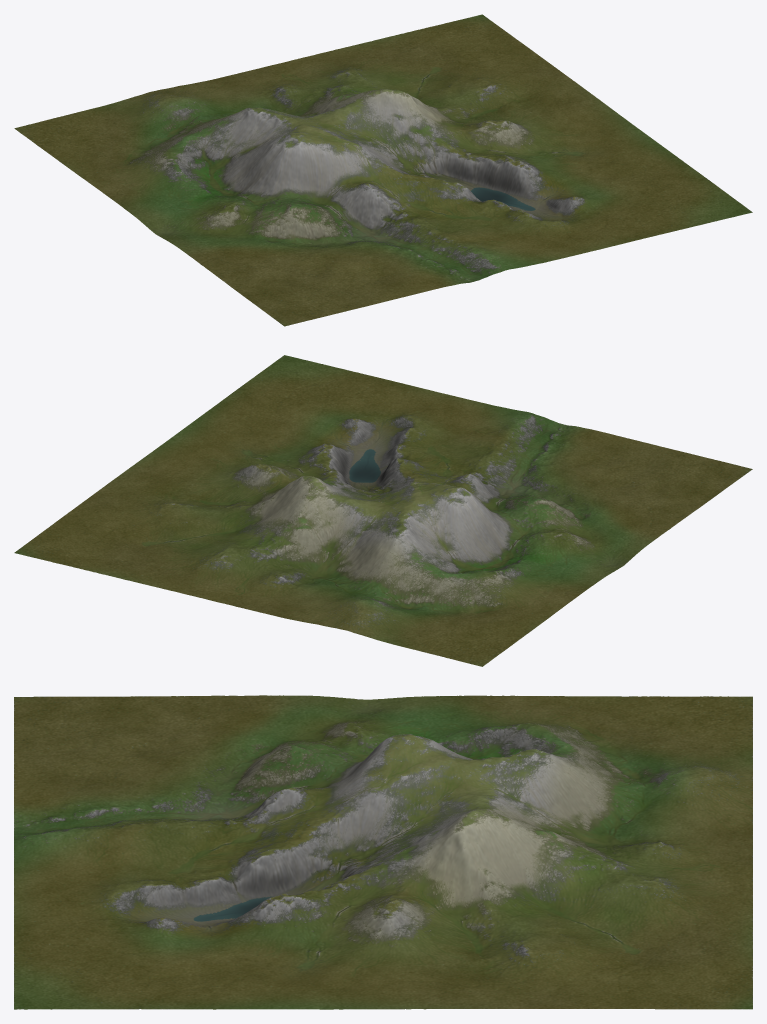
The picture shows the model from 3 angles, top to bottom: view 1: azimuth 30°, elevation 25°; view 2: azimuth 150°, elevation 25°; view 3: azimuth 270°, elevation 25°; orthographic projection. The views are drawn at different scales.
Parts seen in each view (by area): view 1: pPlane1_blinn1_0.002, pPlane1_blinn1_0.001, pPlane1, pPlane1_blinn1_0.003, pPlane1_blinn1_0.004; view 2: pPlane1_blinn1_0.003, pPlane1_blinn1_0.002, pPlane1, pPlane1_blinn1_0.001, pPlane1_blinn1_0.004; view 3: pPlane1_blinn1_0.001, pPlane1_blinn1_0.003, pPlane1, pPlane1_blinn1_0.002, pPlane1_blinn1_0.004.
Part boxes in pixels (x1,y1,x2,y2): pPlane1_blinn1_0.002: (14,15,480,325); pPlane1_blinn1_0.001: (341,14,675,240); pPlane1: (284,14,752,326); pPlane1_blinn1_0.003: (148,15,480,238); pPlane1_blinn1_0.004: (438,15,516,52); pPlane1_blinn1_0.003: (16,476,539,630); pPlane1_blinn1_0.002: (15,469,751,666); pPlane1: (15,355,752,552); pPlane1_blinn1_0.001: (14,411,542,552); pPlane1_blinn1_0.004: (15,527,104,563); pPlane1_blinn1_0.001: (223,788,751,1009); pPlane1_blinn1_0.003: (230,734,752,1007); pPlane1: (14,697,752,1009); pPlane1_blinn1_0.002: (16,695,752,1008); pPlane1_blinn1_0.004: (657,970,752,1009).
Bounding box in the file's own units: 16 × 1.91 × 16.
Materials: 1 (1 with a texture image).
